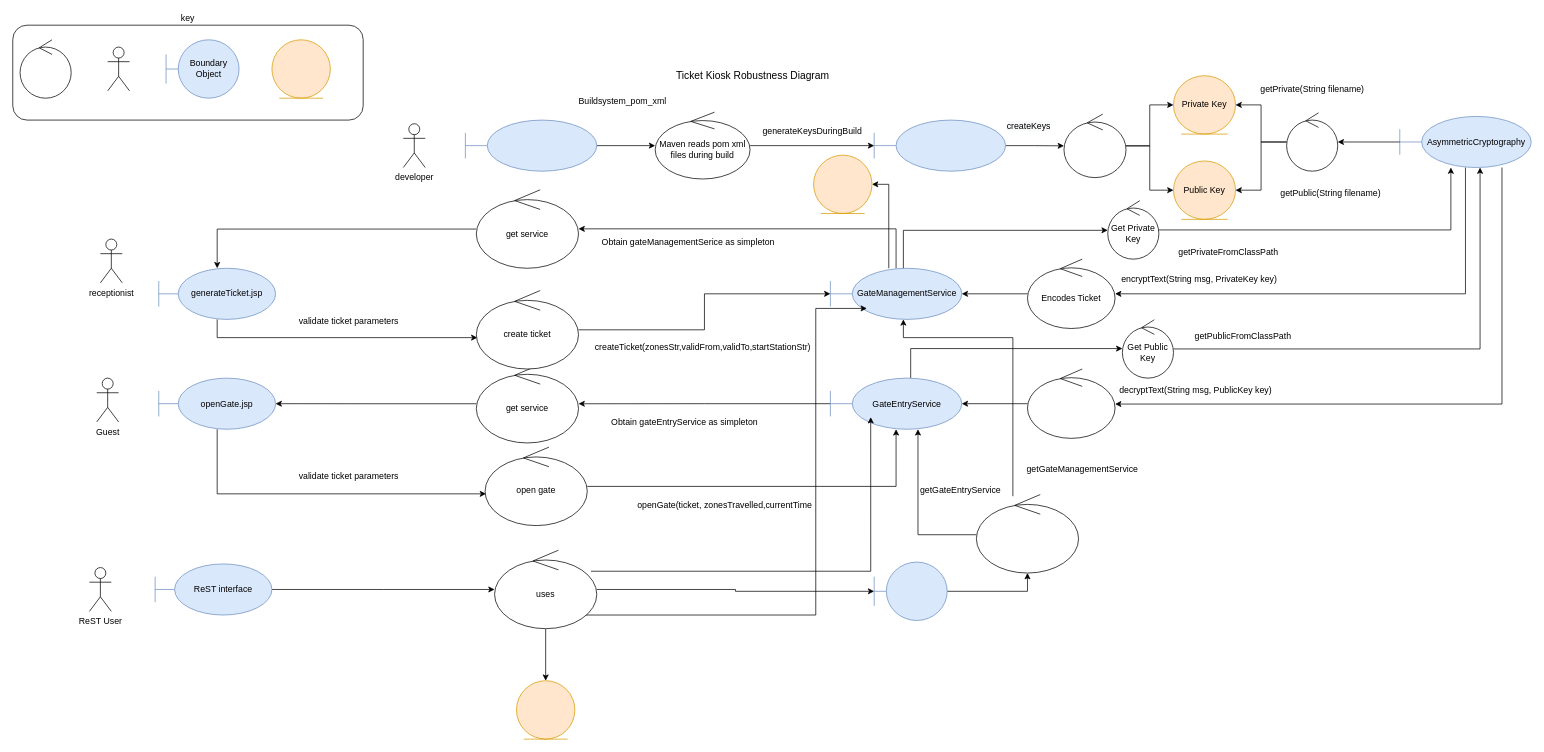
Some shapes in this 1544 by 752 pixel diagram are drawn without their labels. Here are the shapes that lost their labels. From the top down, the centre of each, then its label:
At point 45,68: "Control Object".
At point 118,68: "Actor".
At point 300,68: "Entity Object".
At point 531,145: "maven Build".
At point 939,145: "GenerateKeys".
At point 1094,145: "generates Public and Private Keys".
At point 1312,141: "Obtains Keys".
At point 842,184: "New Ticket".
At point 1071,403: "Decodes Ticket".
At point 1027,533: "Creates".
At point 910,590: "Service Factory".
At point 545,709: "Reply Object".
